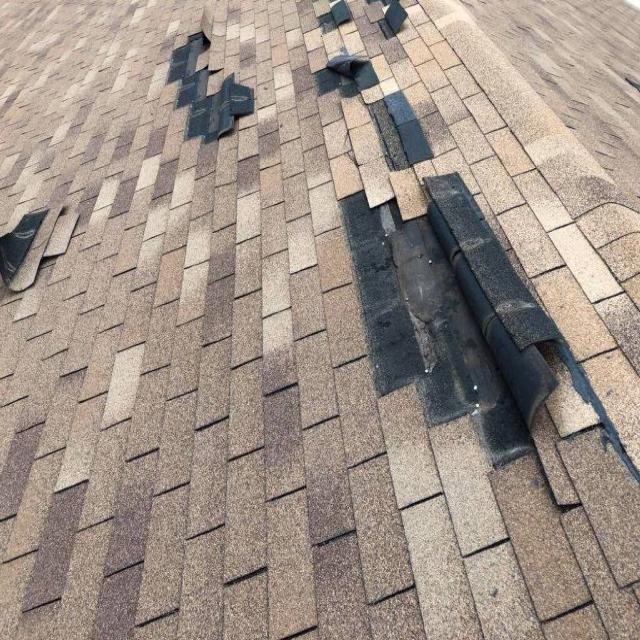damage: (339, 168, 573, 471), (160, 25, 258, 153), (357, 71, 440, 181), (0, 204, 57, 299), (309, 45, 382, 108), (315, 0, 359, 41), (376, 0, 414, 46)
